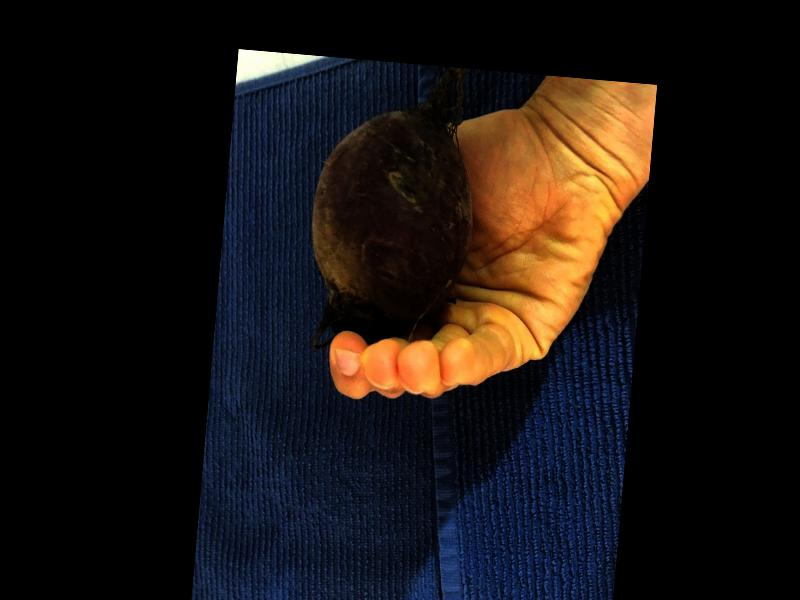Beet: (302, 59, 486, 365)
